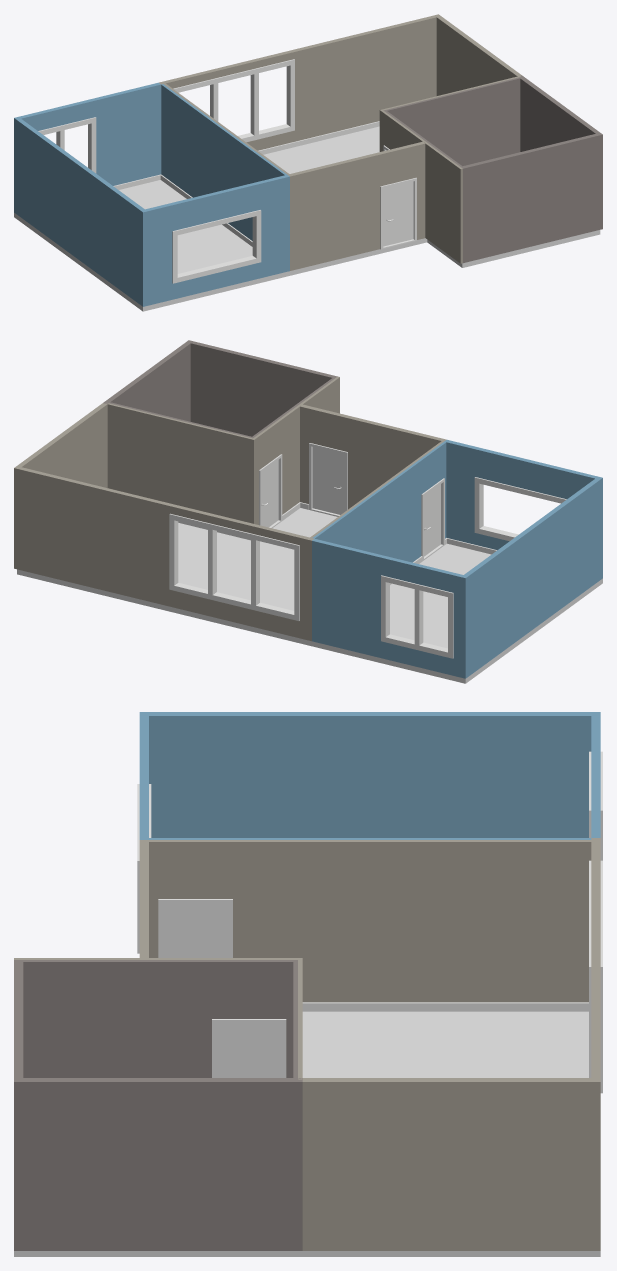
The picture shows the model from 3 angles, top to bottom: view 1: azimuth 30°, elevation 25°; view 2: azimuth 150°, elevation 25°; view 3: azimuth 270°, elevation 25°; orthographic projection. The views are drawn at different scales.
Visible parts, largest first — view 1: 卧室墙, 厕所墙, 客厅墙, 外墙, 卧室地面, 客厅地面, 窗框_3, 窗框, 立方体_3_3, 窗框_2, 厕所地面, 客厅踢脚线 (+2 smaller); view 2: 客厅墙, 卧室墙, 厕所墙, 客厅地面, 外墙, 卧室地面, 窗框_3, 窗框_2, 立方体_3_3, 窗框, 立方体_3_2, 立方体_3 (+3 smaller); view 3: 客厅墙, 厕所墙, 卧室墙, 客厅地面, 立方体_3, 立方体_3_2, 客厅踢脚线, 厕所地面, 窗框_3, 外墙, 门框_1, 门框.
Boxes of the visible parts, x1,y1,x2,y2 form: 卧室墙: (14, 82, 289, 306); 厕所墙: (383, 75, 602, 263); 客厅墙: (159, 14, 521, 270); 外墙: (289, 141, 425, 270); 卧室地面: (14, 180, 289, 311); 客厅地面: (263, 126, 427, 275); 窗框_3: (173, 59, 294, 142); 窗框: (172, 210, 261, 283); 立方体_3_3: (383, 181, 413, 246); 窗框_2: (38, 117, 96, 173); 厕所地面: (427, 230, 600, 267); 客厅踢脚线: (258, 121, 379, 154); 客厅墙: (14, 376, 446, 641); 卧室墙: (312, 439, 602, 678); 厕所墙: (103, 340, 337, 438); 客厅地面: (17, 508, 337, 645); 外墙: (300, 404, 444, 509); 卧室地面: (309, 543, 602, 683); 窗框_3: (169, 513, 299, 620); 窗框_2: (381, 575, 453, 658); 立方体_3_3: (312, 447, 344, 514); 窗框: (474, 477, 566, 541); 立方体_3_2: (261, 460, 278, 527); 立方体_3: (424, 484, 440, 556); 客厅墙: (14, 838, 600, 1250); 厕所墙: (14, 960, 302, 1250); 卧室墙: (139, 712, 600, 839); 客厅地面: (298, 1011, 600, 1256); 立方体_3: (163, 904, 228, 957); 立方体_3_2: (216, 1024, 281, 1077); 客厅踢脚线: (302, 1002, 588, 1011); 厕所地面: (14, 1251, 297, 1256); 窗框_3: (589, 860, 602, 1093); 外墙: (139, 841, 148, 957); 门框_1: (212, 1019, 286, 1077); 门框: (158, 899, 232, 957).
Bounding box in the file's own units: 940 × 210 × 633.
